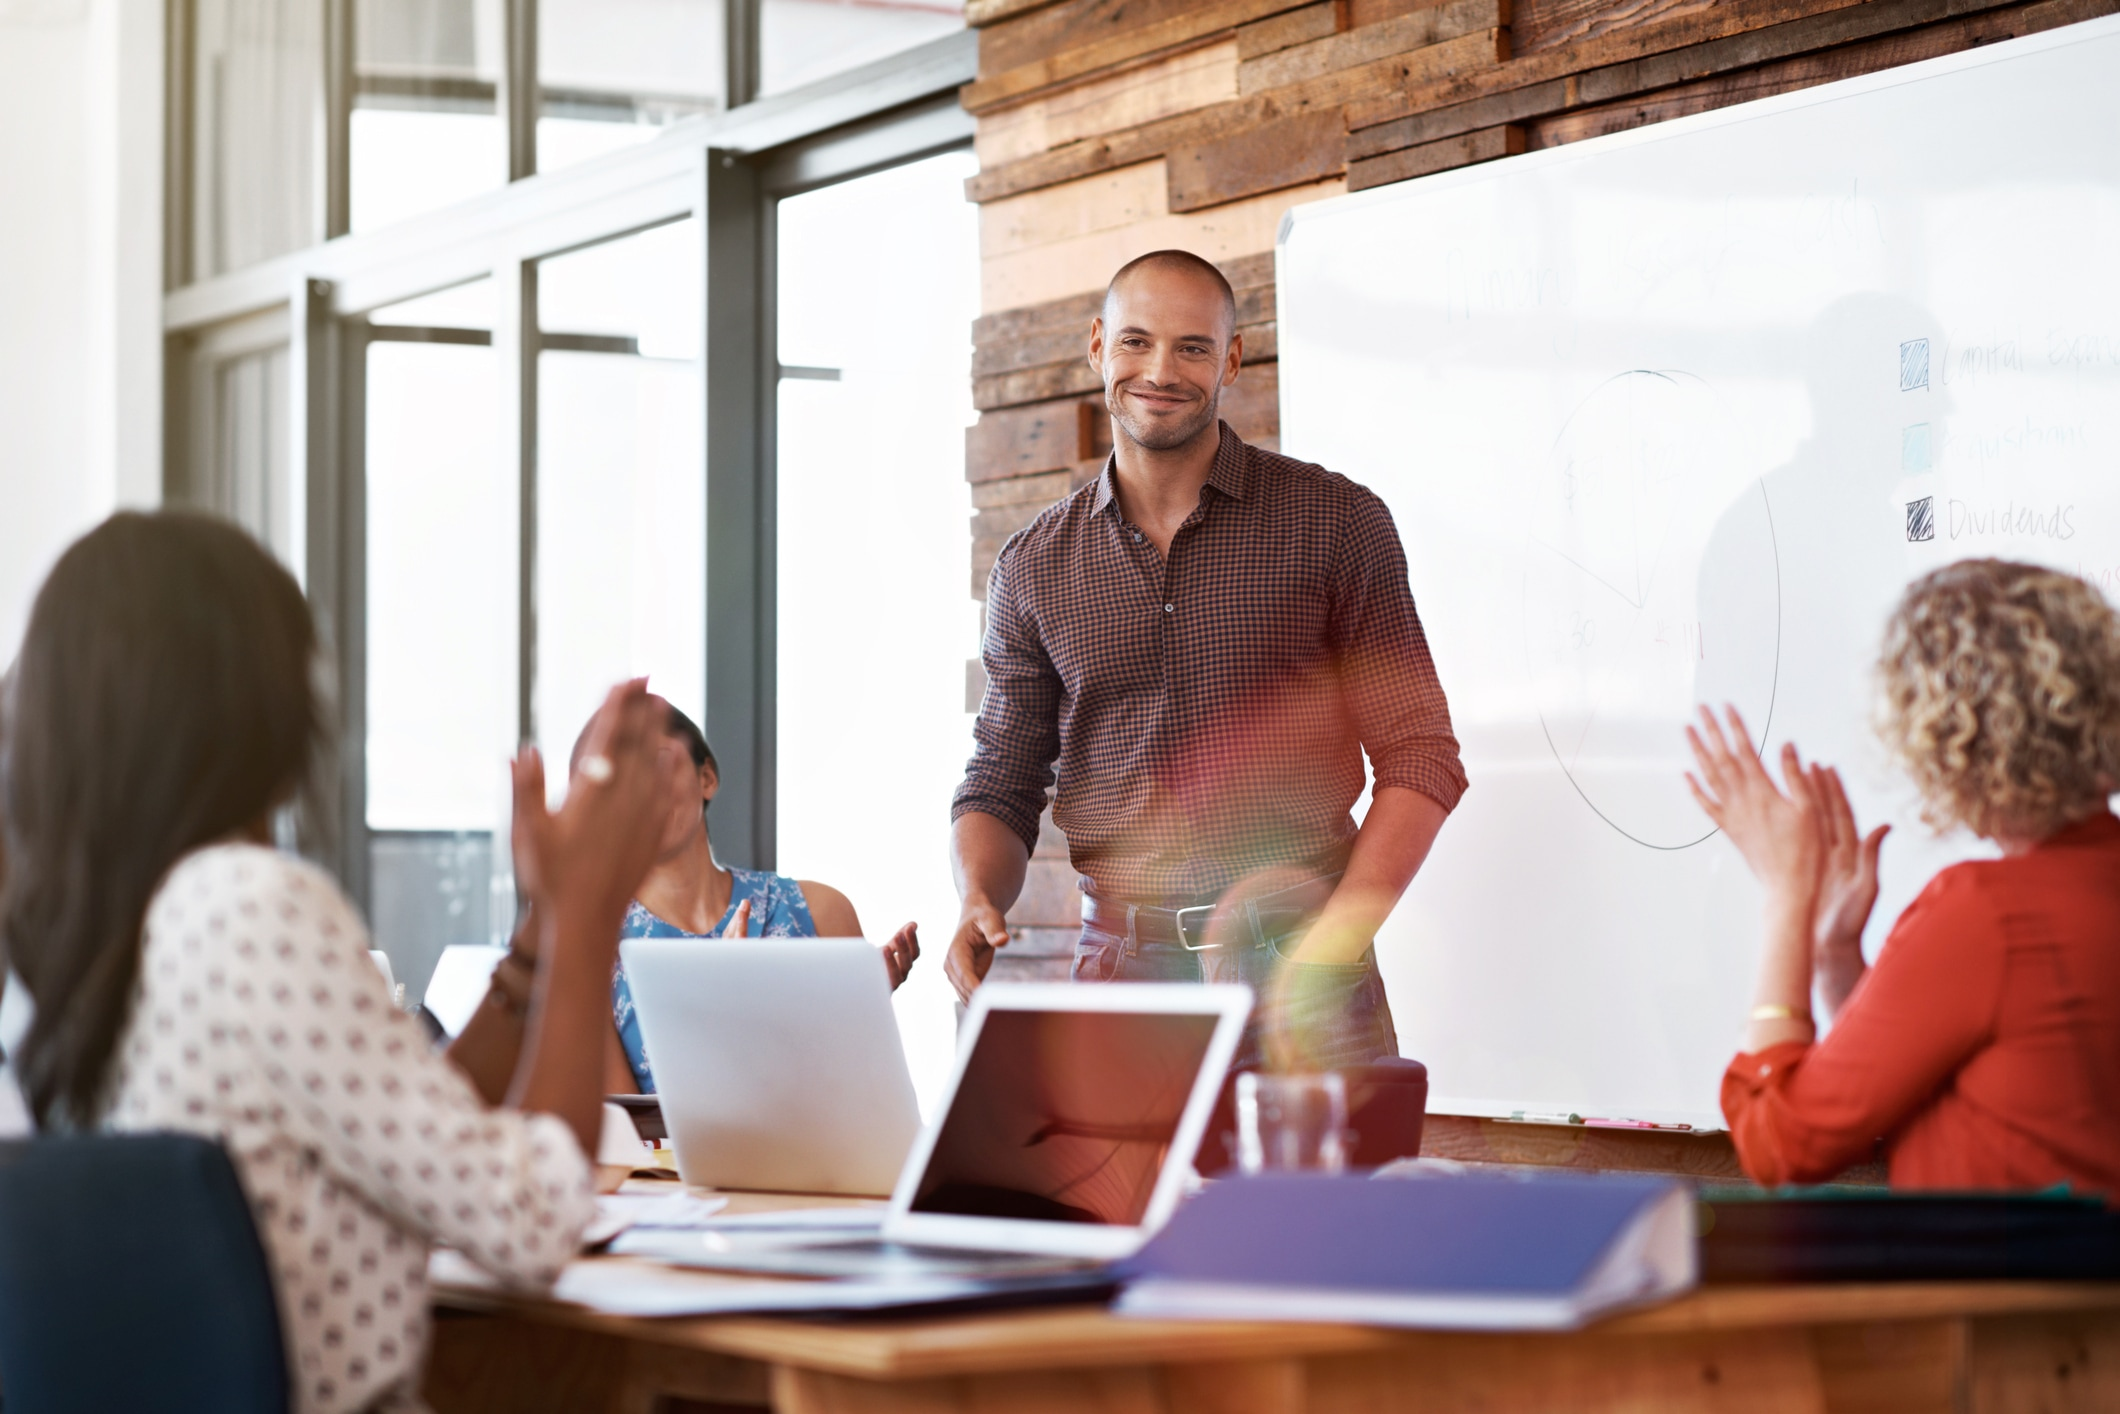Person: (1, 507, 674, 1414), (942, 246, 1469, 1175), (1684, 555, 2120, 1192)
